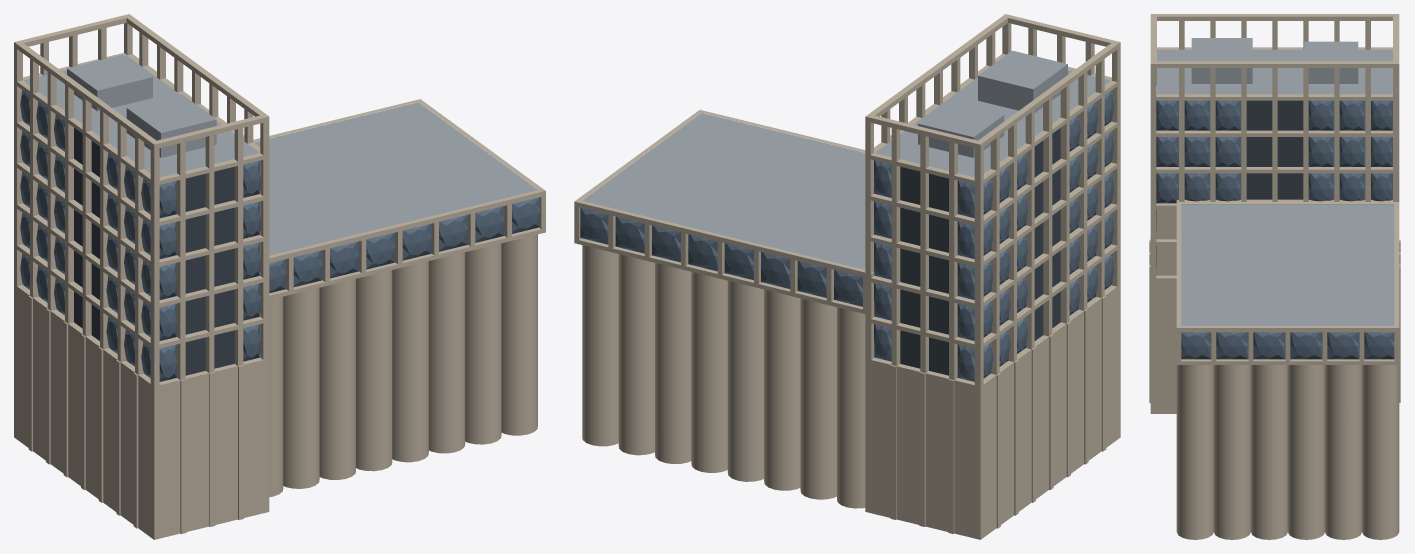
The model's file is cpt-zeitz-mocaa.glb.
3 views of the same model, side by side, from view 1: azimuth 30°, elevation 25°; view 2: azimuth 150°, elevation 25°; view 3: azimuth 270°, elevation 25° (orthographic). The views are drawn at different scales.
Parts seen in each view (by area): view 1: Zeitz MOCAA; view 2: Zeitz MOCAA; view 3: Zeitz MOCAA.
Part boxes in pixels (left/top/right/bottom): Zeitz MOCAA: left=14, top=14, right=545, bottom=539; Zeitz MOCAA: left=574, top=14, right=1120, bottom=539; Zeitz MOCAA: left=1149, top=14, right=1400, bottom=539.
Bounding box in the file's own units: 61.53 × 57 × 37.06.
